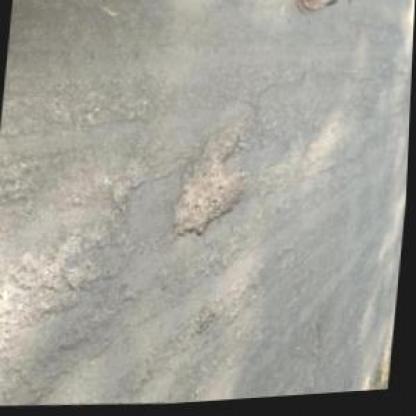pothole: (168, 118, 254, 247)
